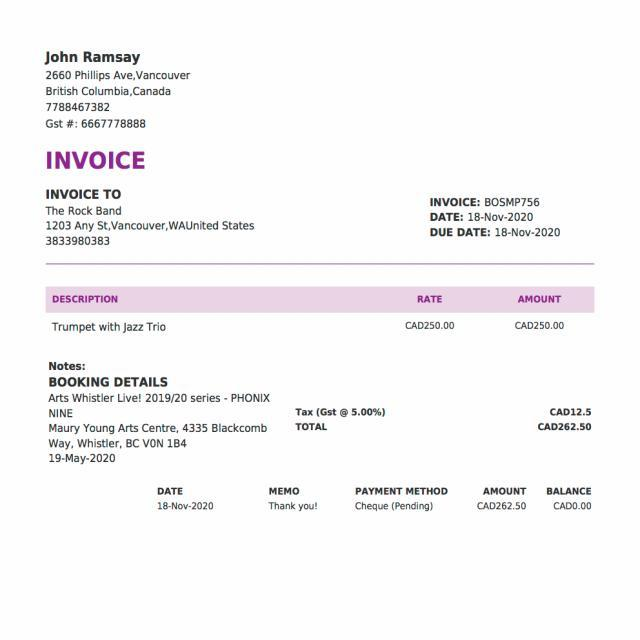customer_address: (41, 220, 263, 232)
customer_name: (42, 201, 124, 219)
due_date: (494, 226, 584, 244)
invoice_date: (466, 210, 544, 226)
invoice_number: (484, 187, 544, 209)
invoice_total: (534, 421, 594, 434)
item_description: (46, 320, 224, 339)
item_total_price: (511, 316, 574, 336)
item_unit_price: (398, 317, 482, 339)
supplier_address: (34, 68, 202, 100)
supplier_name: (30, 48, 177, 67)
tax_amount: (548, 402, 596, 418)
